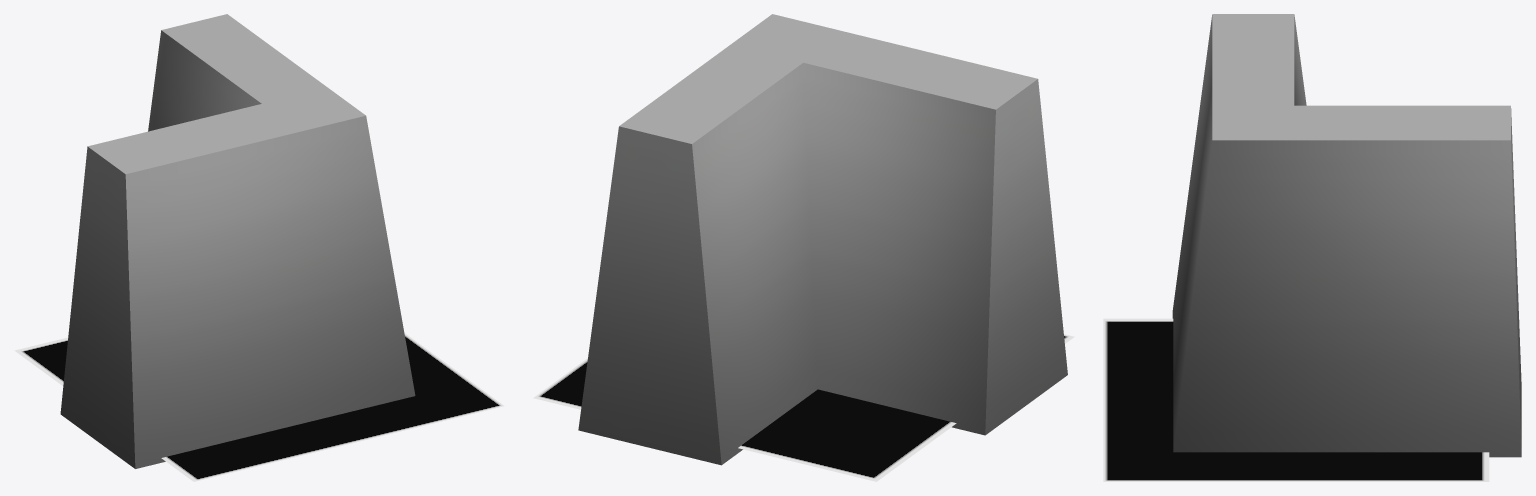
File: stadium_death_floor_corner.FBX
3 renders of one model, left to right at view 1: azimuth 30°, elevation 25°; view 2: azimuth 150°, elevation 25°; view 3: azimuth 270°, elevation 25°, orthographic. The views are drawn at different scales.
Visible parts, largest first — view 1: stadium_death_floor_corner, stadium_death_floor_corner_soft_shadow; view 2: stadium_death_floor_corner, stadium_death_floor_corner_soft_shadow; view 3: stadium_death_floor_corner, stadium_death_floor_corner_soft_shadow.
Part boxes in pixels (left/top/right/bottom): stadium_death_floor_corner: left=60, top=14, right=415, bottom=468; stadium_death_floor_corner_soft_shadow: left=14, top=333, right=504, bottom=481; stadium_death_floor_corner: left=578, top=14, right=1067, bottom=465; stadium_death_floor_corner_soft_shadow: left=533, top=334, right=1074, bottom=481; stadium_death_floor_corner: left=1172, top=14, right=1521, bottom=457; stadium_death_floor_corner_soft_shadow: left=1103, top=318, right=1489, bottom=481.
Size of the model in its own units: 780 by 618 by 780.
